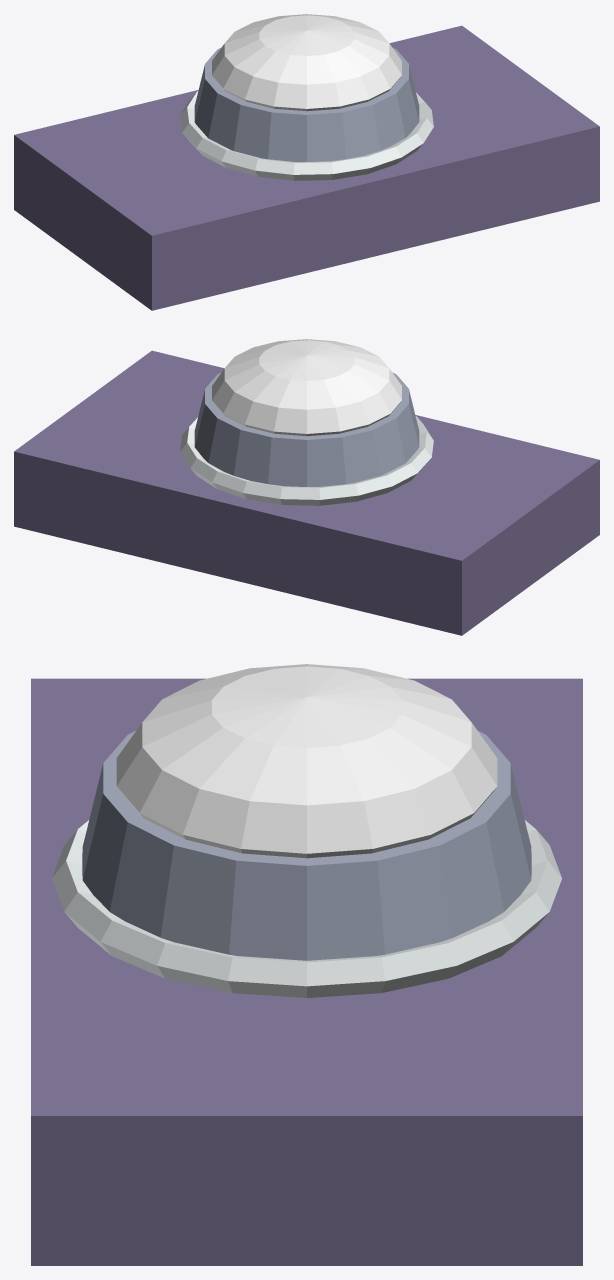
The model's file is boton_detener.glb.
3 views of the same model, one above another, from view 1: azimuth 30°, elevation 25°; view 2: azimuth 150°, elevation 25°; view 3: azimuth 270°, elevation 25° (orthographic). The views are drawn at different scales.
Parts seen in each view (by area): view 1: boton_detener; view 2: boton_detener; view 3: boton_detener.
Boxes of the visible parts, bbox=[...] form: boton_detener: bbox=[14, 14, 599, 310]; boton_detener: bbox=[14, 339, 599, 635]; boton_detener: bbox=[31, 664, 582, 1265].
Bounding box in the file's own units: 1.5 × 0.56 × 0.8.
